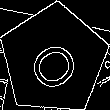O_NE: (21, 27, 86, 91)
